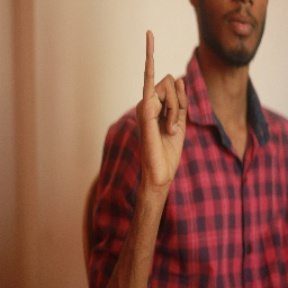I: (133, 28, 192, 184)
